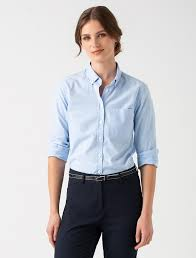F_belt: (67, 166, 140, 182)
F_shirt: (42, 61, 166, 172)
